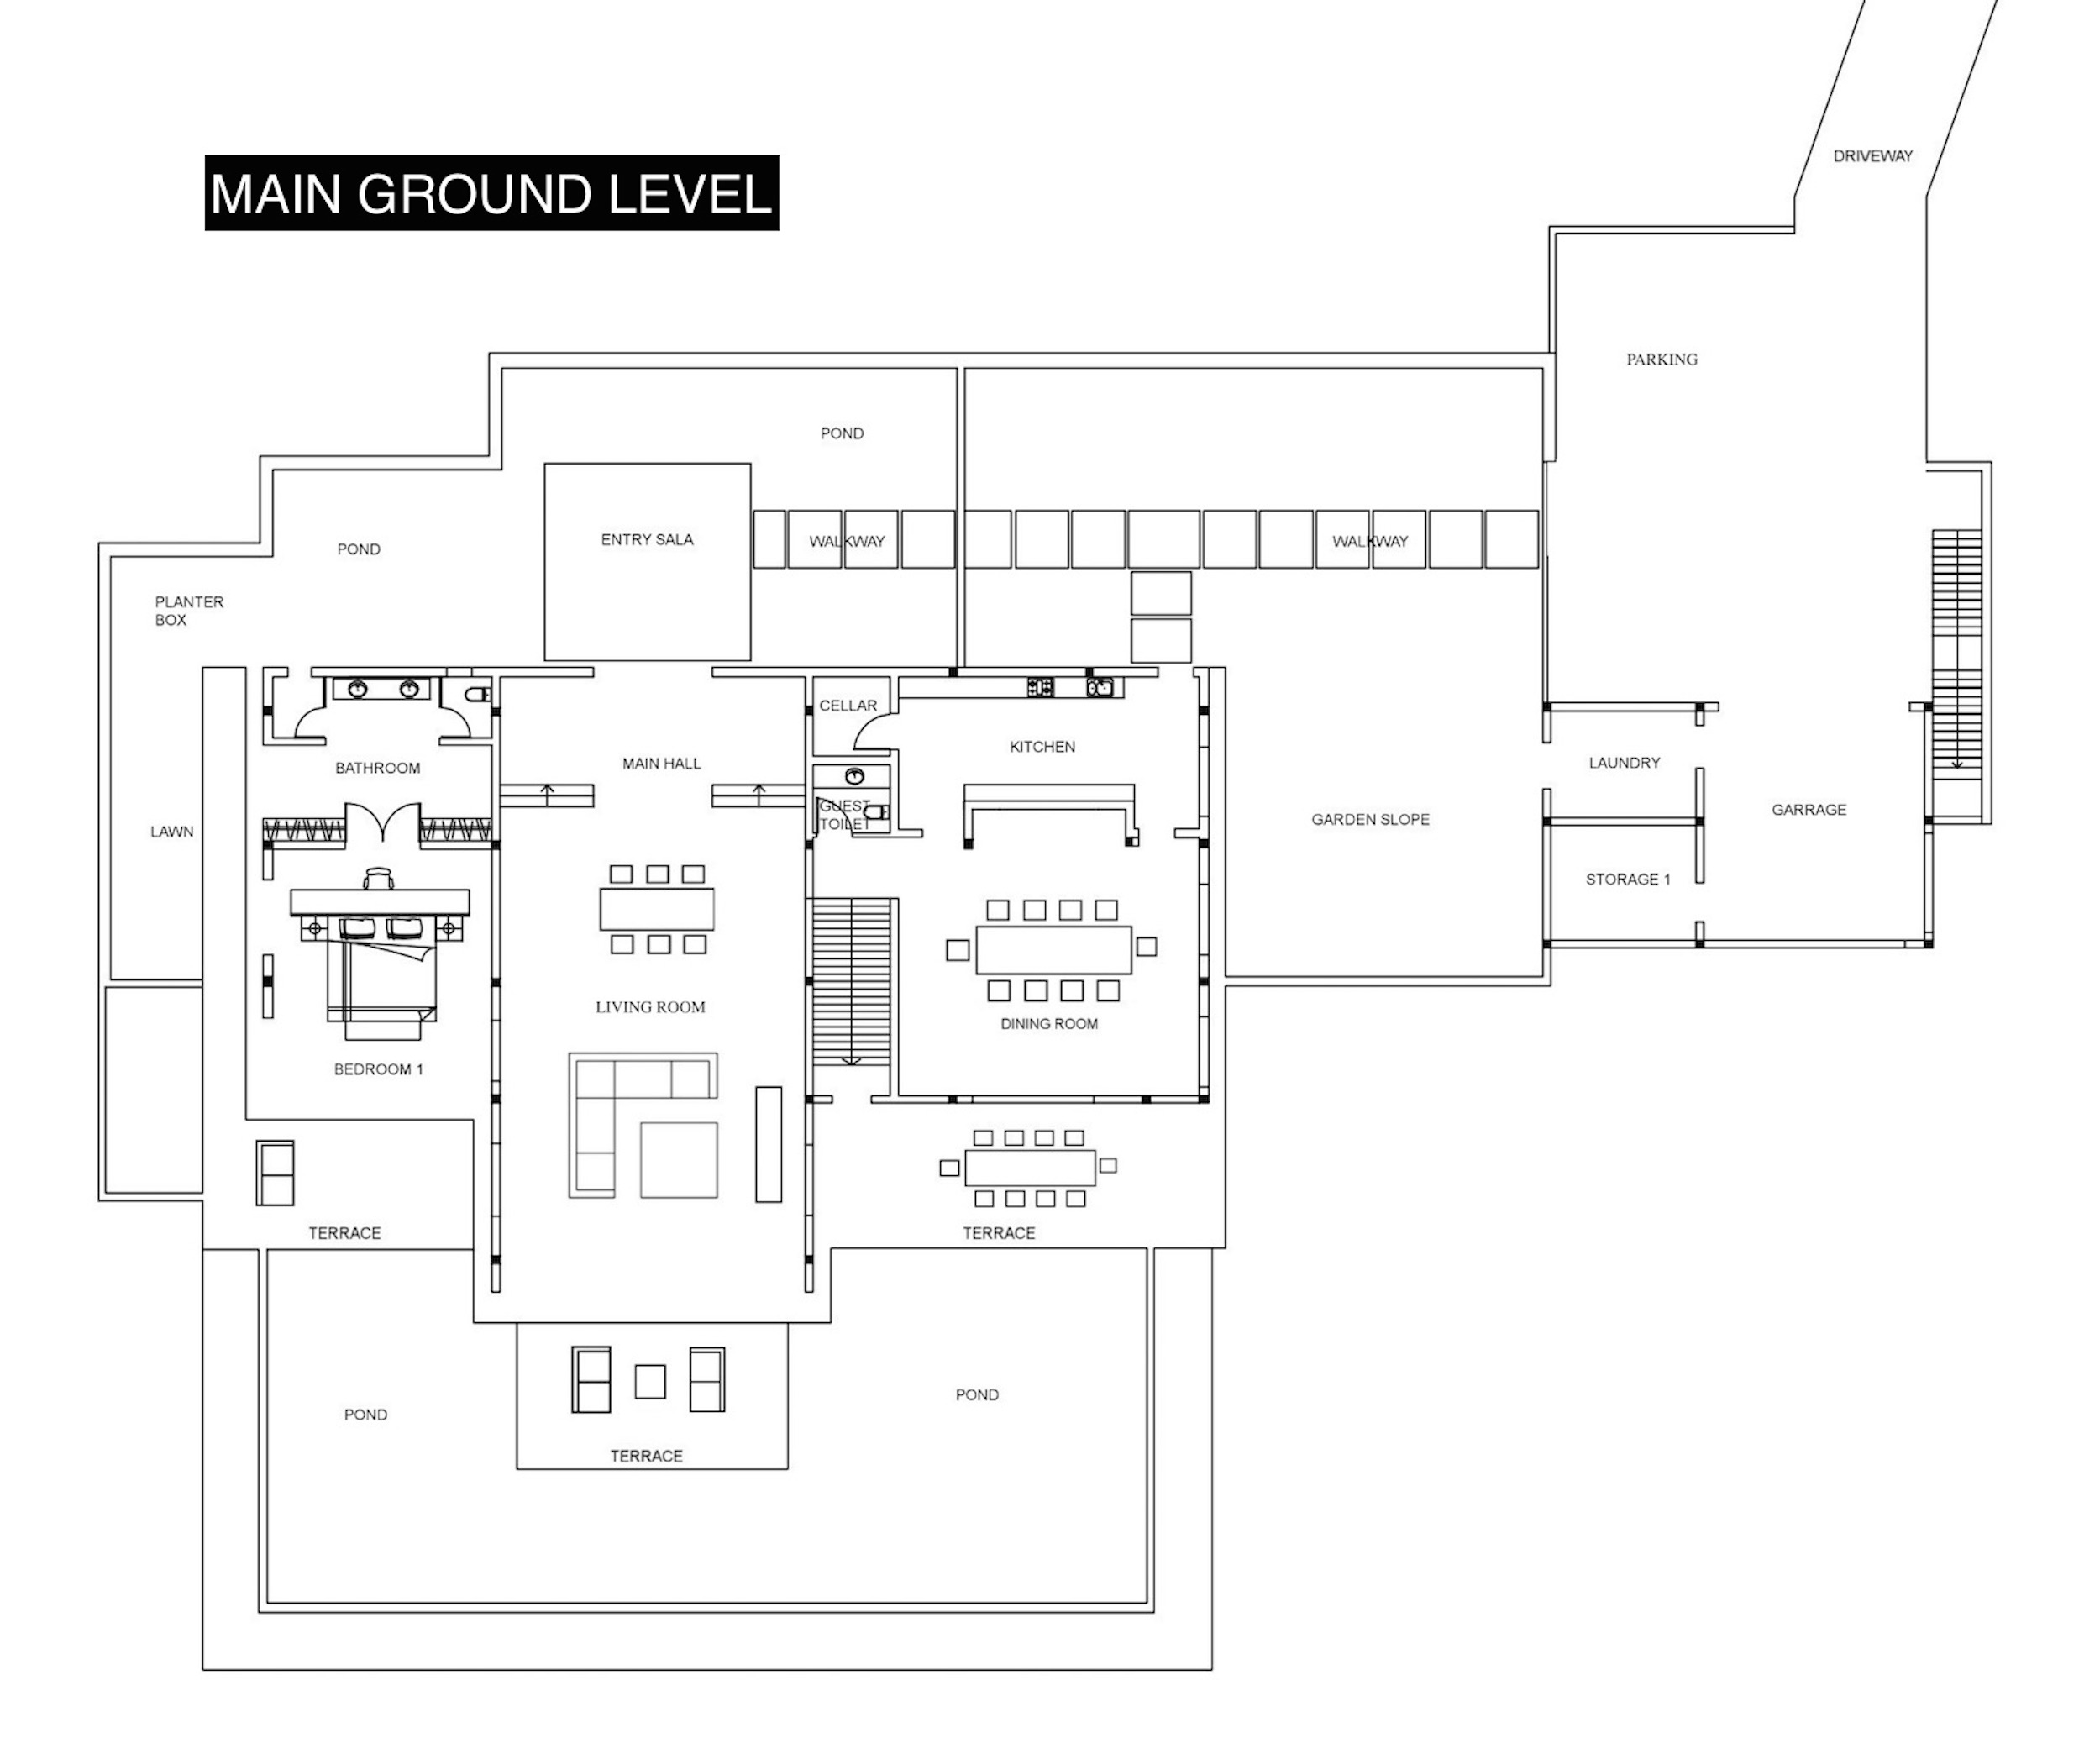room: (492, 777, 822, 1326), (890, 663, 1219, 1105), (244, 660, 504, 1122)
